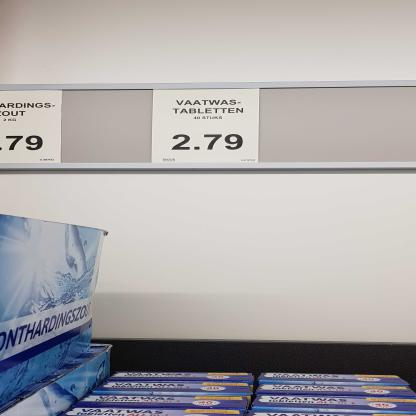prtg: (153, 89, 261, 164), (1, 91, 63, 165)
